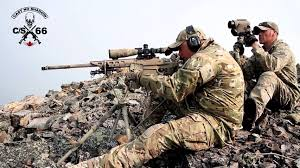weapon: (42, 44, 178, 74)
